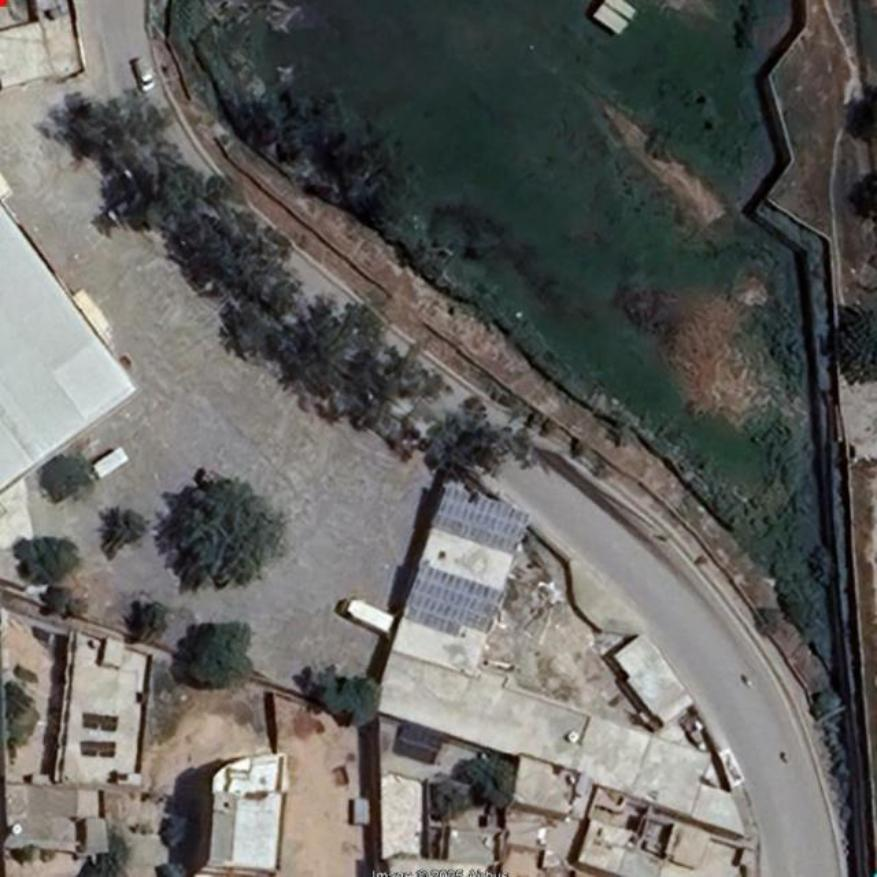Solarpanel: (406, 563, 504, 635), (433, 484, 529, 552), (405, 606, 463, 634)
